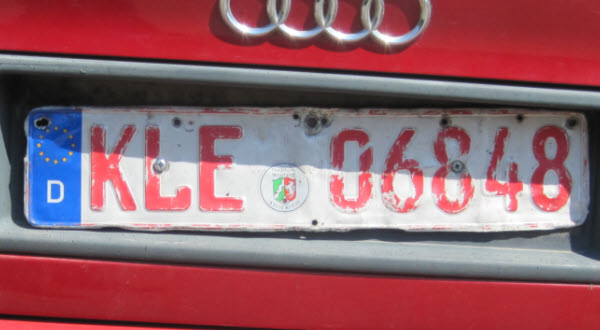license_plate: (22, 107, 592, 230)
